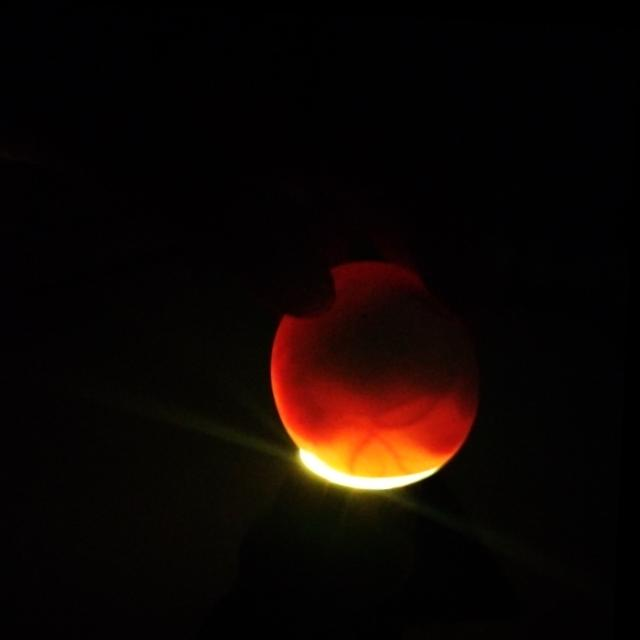Embriao: (294, 273, 486, 409)
